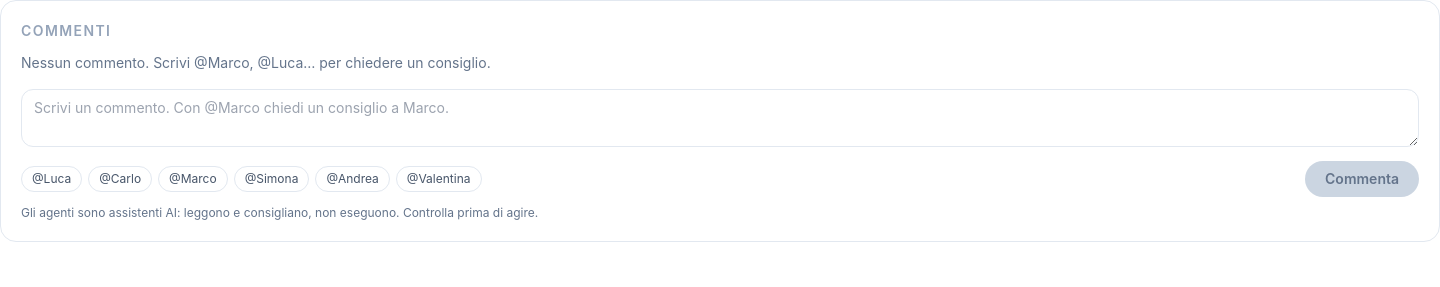
Test: se l'agente non riesce a rispondere lo dice senza inventare
The width and height of the screenshot is (1440, 287).
Check: the text "Nessun commento" is shown, box [21,54,491,71]
Type "@Marco?" into the text box labelled "Scrivi un commento" at [720, 118], box [21,89,1419,147]
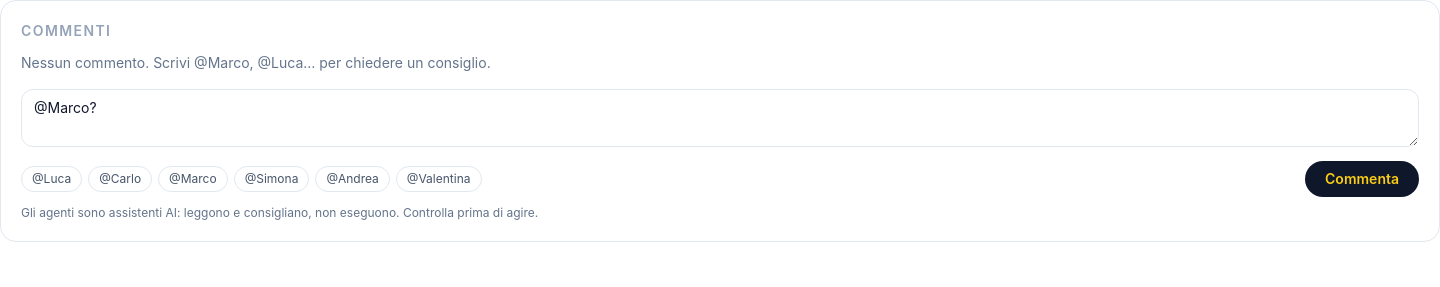
Click the button "Commenta" at [1362, 179], box [1305,161,1419,197]
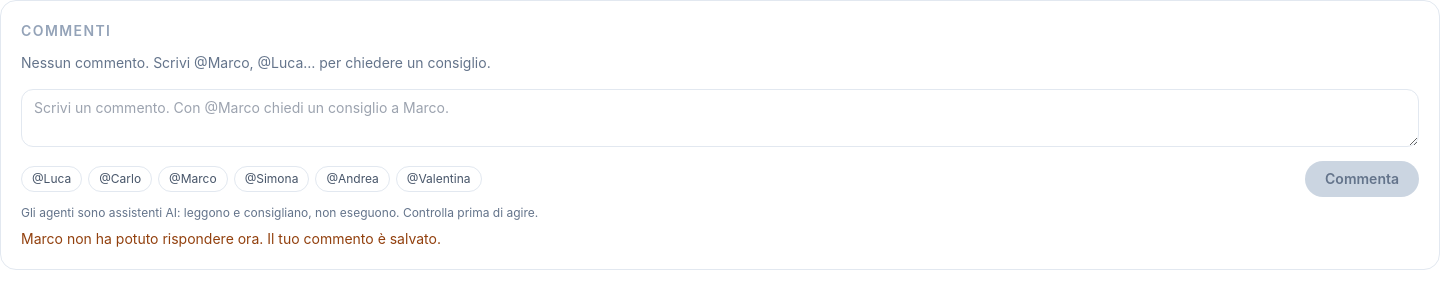
Check: the text "Marco non ha potuto rispondere ora. Il tuo commento è salvato." is shown, box [21,230,441,247]
